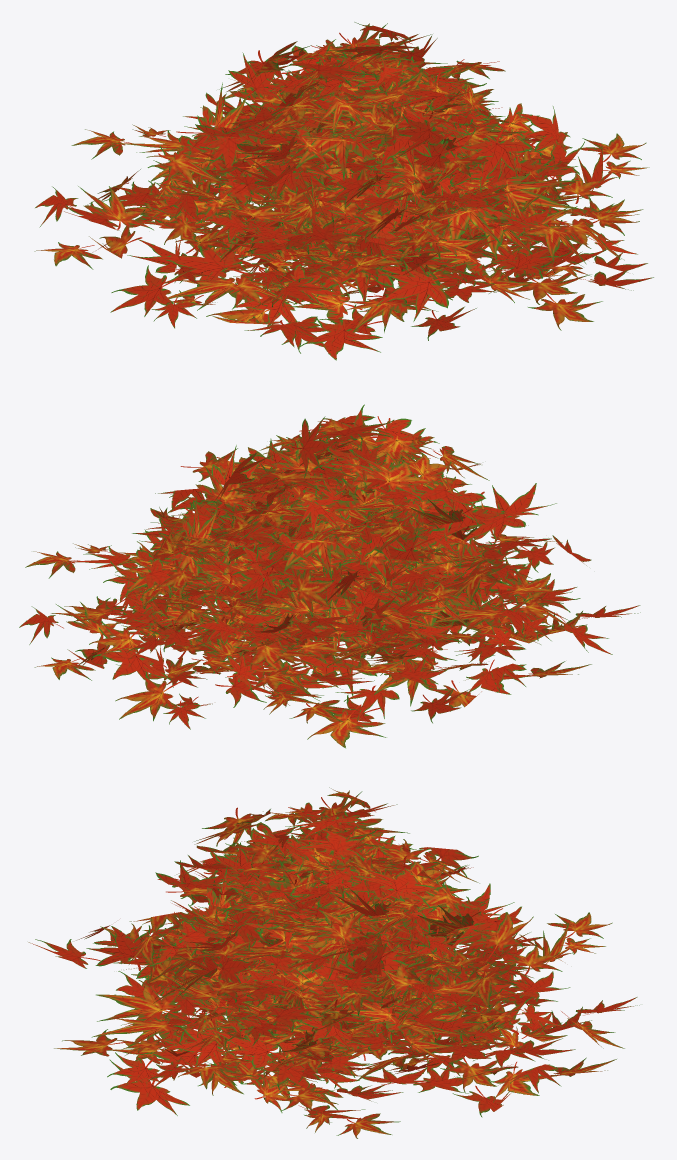
File: モミジ山.fbx
The picture shows the model from 3 angles, top to bottom: view 1: azimuth 30°, elevation 25°; view 2: azimuth 150°, elevation 25°; view 3: azimuth 270°, elevation 25°; orthographic projection. The views are drawn at different scales.
Visible parts, largest first — view 1: 平面.002; view 2: 平面.002; view 3: 平面.002.
Boxes of the visible parts, x1=… form: 平面.002: x1=34, y1=22, x2=653, y2=360; 平面.002: x1=19, y1=404, x2=640, y2=748; 平面.002: x1=28, y1=787, x2=639, y2=1138.
Size of the model in its own units: 2036 by 695 by 1899.
